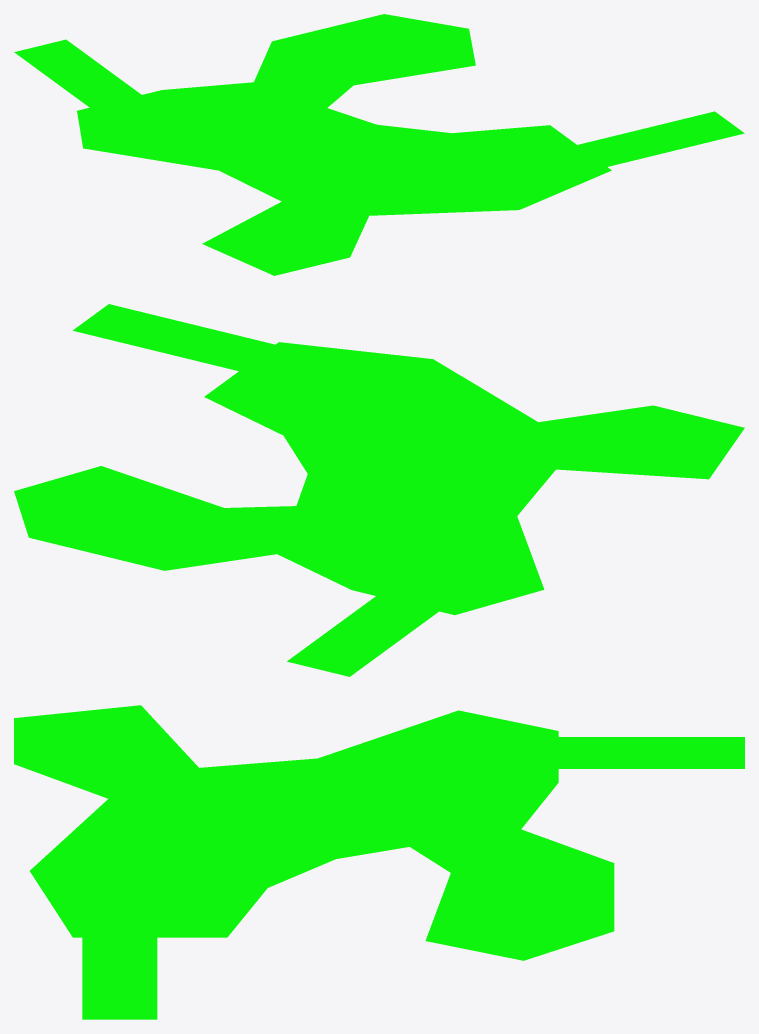
Rendered from s03a_lc2-floor.glb.
3 views of the same model, one above another, from view 1: azimuth 30°, elevation 25°; view 2: azimuth 150°, elevation 25°; view 3: azimuth 270°, elevation 25° (orthographic). The views are drawn at different scales.
Parts seen in each view (by area): view 1: collision_floor-colonly; view 2: collision_floor-colonly; view 3: collision_floor-colonly.
Boxes of the visible parts, box(x1,y1,x2,y2) form: collision_floor-colonly: box(14, 14, 744, 275); collision_floor-colonly: box(14, 304, 744, 676); collision_floor-colonly: box(14, 705, 744, 1019).
Size of the model in its own units: 59.76 by 0.0977 by 58.48.
